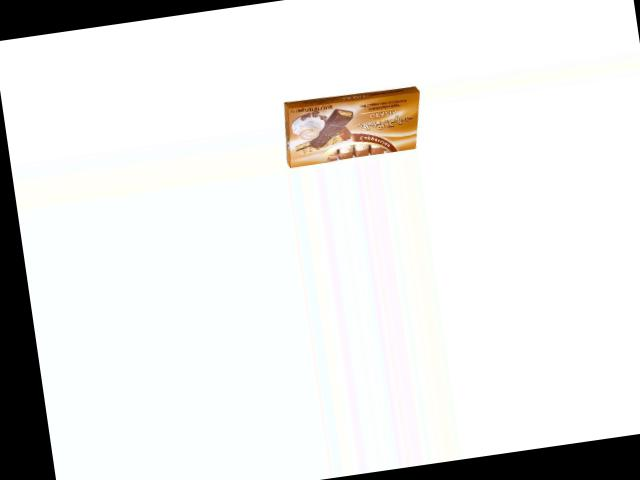chocolate: (278, 82, 430, 169)
